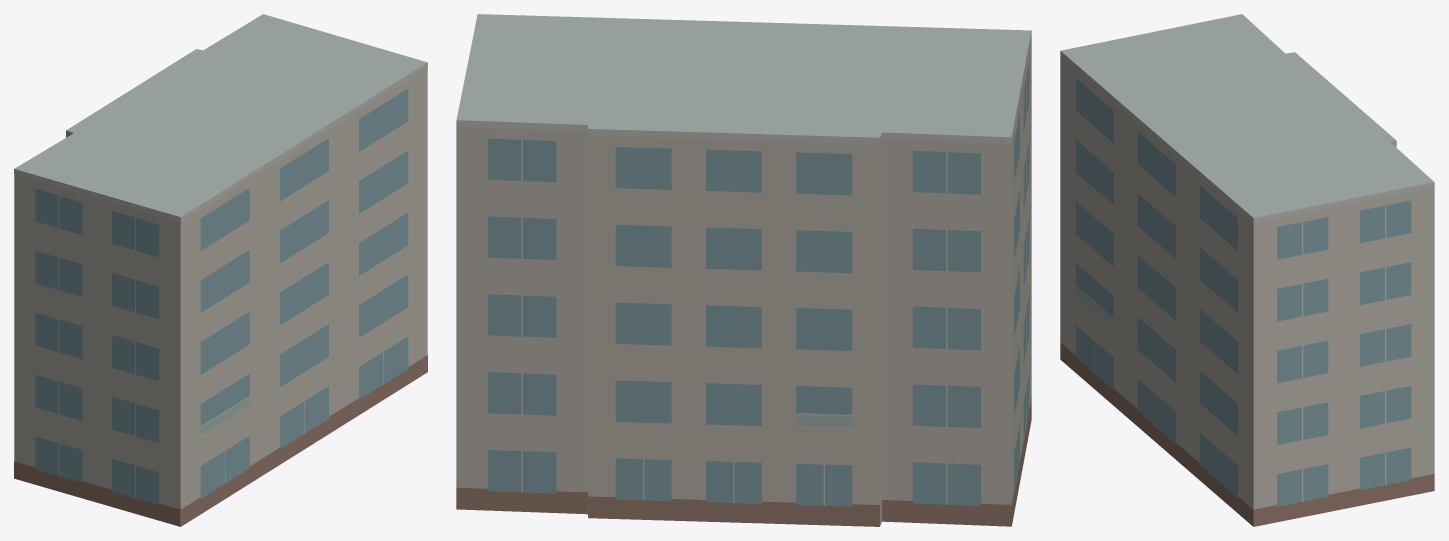
File: survey-upis-32700646.glb
The picture shows the model from 3 angles, left to right: view 1: azimuth 30°, elevation 25°; view 2: azimuth 150°, elevation 25°; view 3: azimuth 270°, elevation 25°; orthographic projection. The views are drawn at different scales.
Parts seen in each view (by area): view 1: survey-upis-32700646.tmp; view 2: survey-upis-32700646.tmp; view 3: survey-upis-32700646.tmp.
Boxes of the visible parts, x1,y1,x2,y2 form: survey-upis-32700646.tmp: (14,14,427,526); survey-upis-32700646.tmp: (456,14,1031,526); survey-upis-32700646.tmp: (1060,14,1434,526).
Size of the model in its own units: 20.41 by 14.4 by 15.82.
